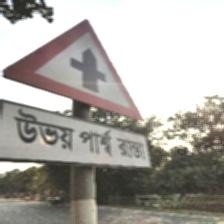Crossroad: (1, 14, 156, 172)
